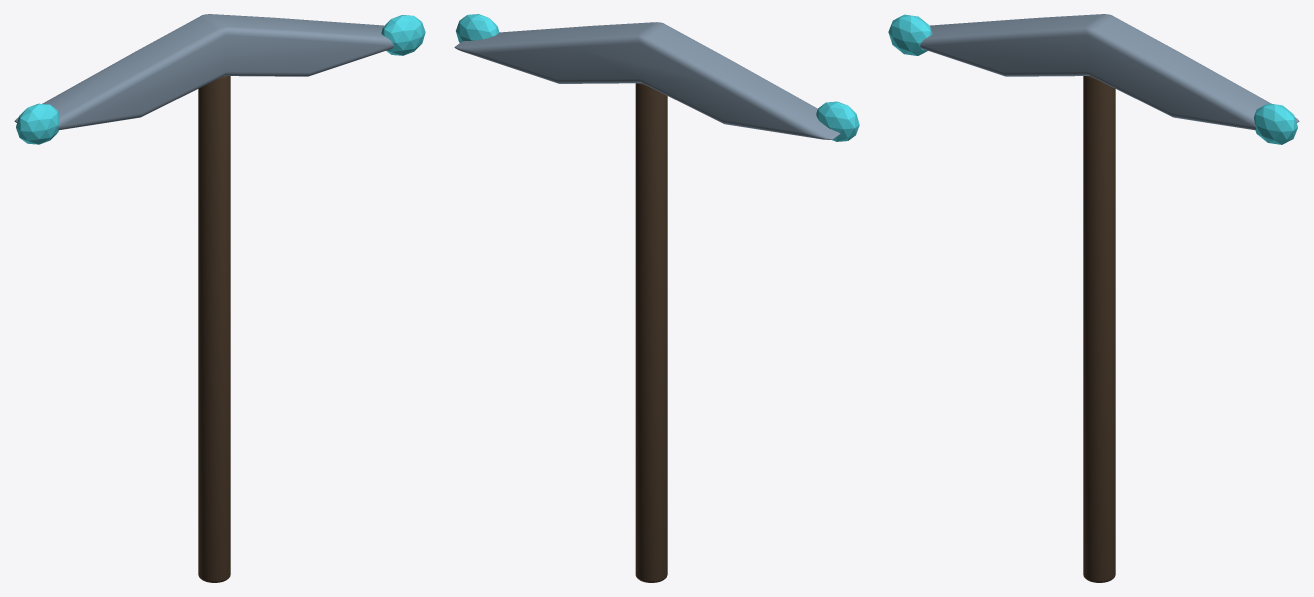
Rendered from axe_v8.glb.
The picture shows the model from 3 angles, left to right: view 1: azimuth 30°, elevation 25°; view 2: azimuth 150°, elevation 25°; view 3: azimuth 330°, elevation 25°; orthographic projection.
Visible parts, largest first — view 1: PICK_HEAD_PRIMARY, AXE_HAFT_SECONDARY, PICK_TIP_ACCENT, PICK_TIP_ACCENT.001; view 2: PICK_HEAD_PRIMARY, AXE_HAFT_SECONDARY, PICK_TIP_ACCENT, PICK_TIP_ACCENT.001; view 3: PICK_HEAD_PRIMARY, AXE_HAFT_SECONDARY, PICK_TIP_ACCENT.001, PICK_TIP_ACCENT.
Part boxes in pixels (bbox=[...]): PICK_HEAD_PRIMARY: bbox=[14, 14, 393, 130]; AXE_HAFT_SECONDARY: bbox=[198, 76, 230, 582]; PICK_TIP_ACCENT: bbox=[16, 103, 59, 144]; PICK_TIP_ACCENT.001: bbox=[381, 15, 425, 55]; PICK_HEAD_PRIMARY: bbox=[454, 22, 840, 139]; AXE_HAFT_SECONDARY: bbox=[635, 83, 667, 582]; PICK_TIP_ACCENT: bbox=[816, 101, 859, 141]; PICK_TIP_ACCENT.001: bbox=[456, 14, 499, 42]; PICK_HEAD_PRIMARY: bbox=[920, 14, 1299, 130]; AXE_HAFT_SECONDARY: bbox=[1083, 76, 1115, 582]; PICK_TIP_ACCENT.001: bbox=[1254, 103, 1297, 144]; PICK_TIP_ACCENT: bbox=[888, 14, 932, 55].
Bounding box in the file's own units: 3 × 3.94 × 0.33.
